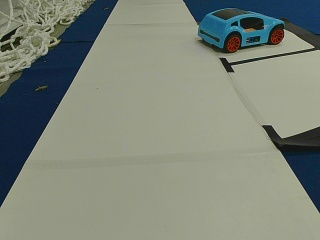car: (197, 9, 284, 52)
